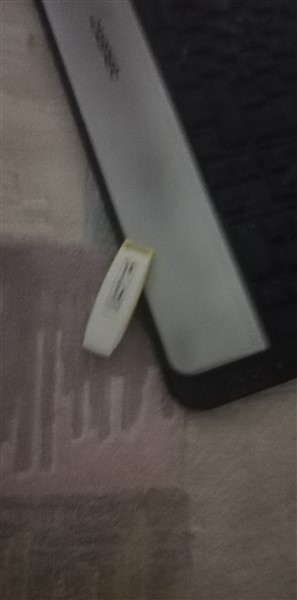flash disk: (73, 233, 160, 364)
klavye: (34, 3, 296, 423)
